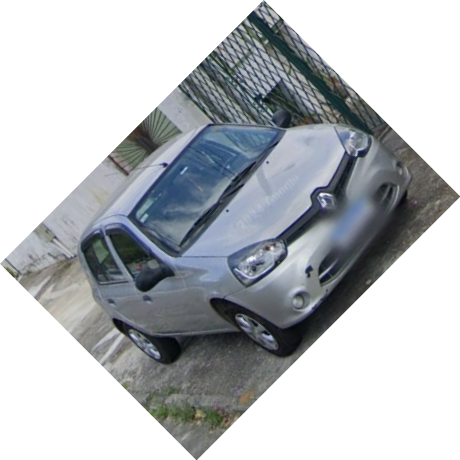car: (76, 121, 414, 364)
